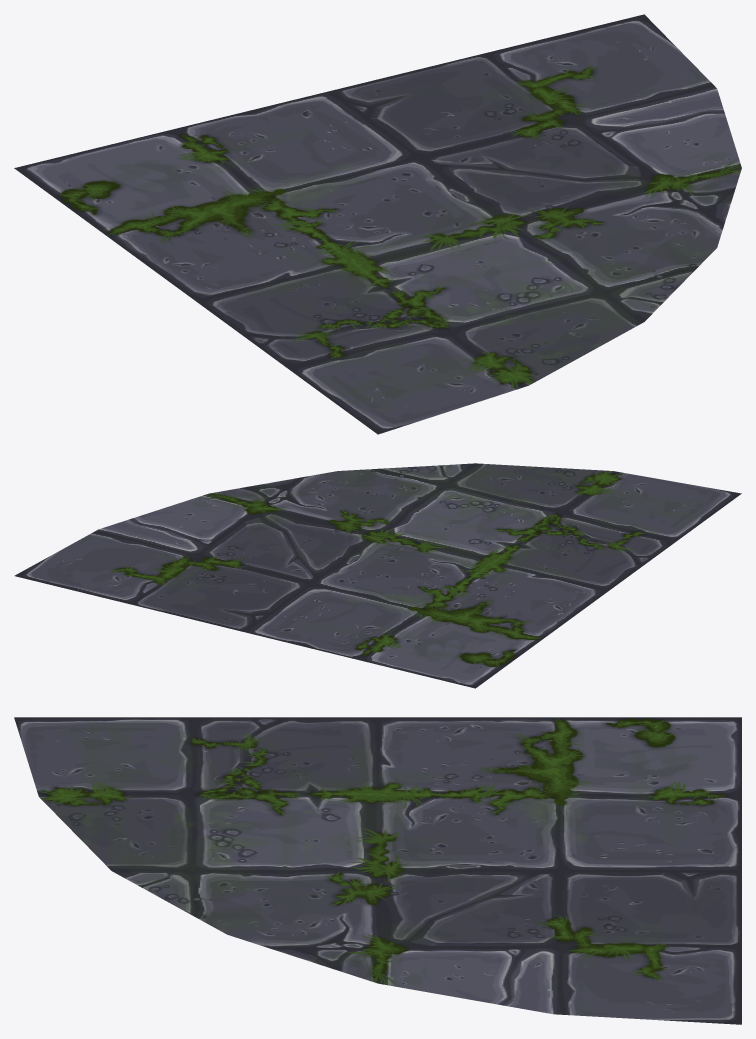
The model's file is MOD_Floor_01_O_convex_med.fbx.
The picture shows the model from 3 angles, top to bottom: view 1: azimuth 30°, elevation 25°; view 2: azimuth 150°, elevation 25°; view 3: azimuth 270°, elevation 25°; orthographic projection. The views are drawn at different scales.
Parts seen in each view (by area): view 1: MOD_Floor_01_O_convex_med; view 2: MOD_Floor_01_O_convex_med; view 3: MOD_Floor_01_O_convex_med.
Part boxes in pixels (x1,y1,x2,y2): MOD_Floor_01_O_convex_med: (14, 14, 741, 434); MOD_Floor_01_O_convex_med: (14, 463, 741, 688); MOD_Floor_01_O_convex_med: (14, 717, 741, 1024).
Size of the model in its own units: 400 by 1.7e-05 by 400.
